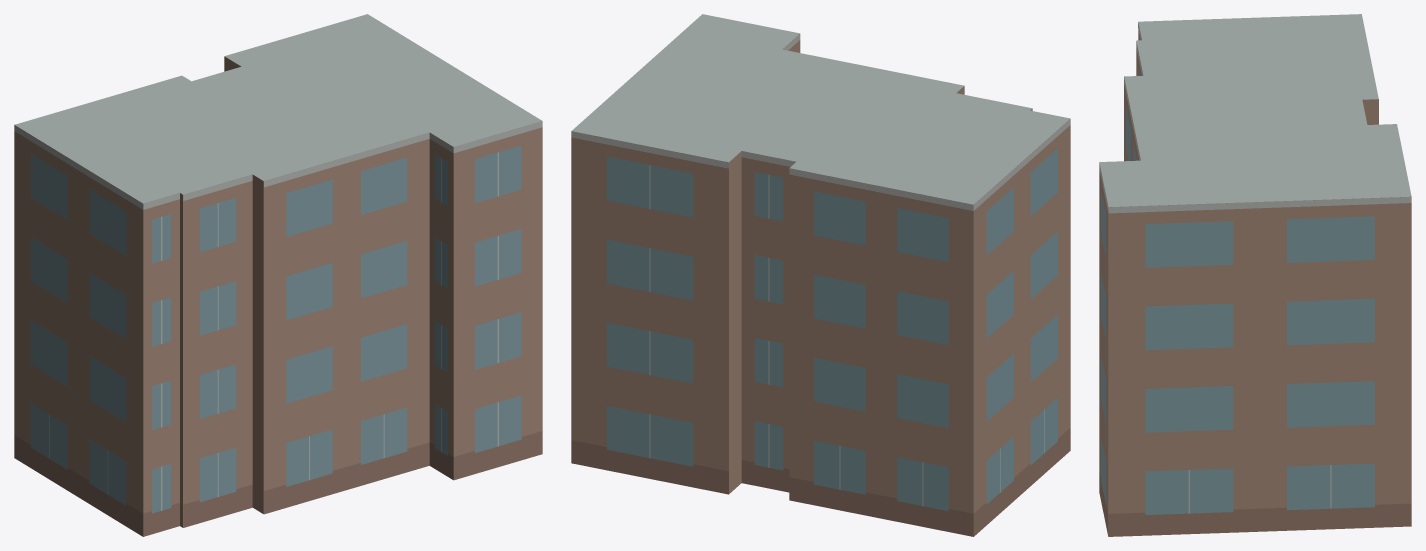
File: survey-upis-32622481.glb
3 renders of one model, left to right at view 1: azimuth 30°, elevation 25°; view 2: azimuth 150°, elevation 25°; view 3: azimuth 270°, elevation 25°, orthographic.
Parts seen in each view (by area): view 1: survey-upis-32622481.tmp; view 2: survey-upis-32622481.tmp; view 3: survey-upis-32622481.tmp.
Boxes of the visible parts, left/top/right/bottom form: survey-upis-32622481.tmp: left=14, top=14, right=542, bottom=536; survey-upis-32622481.tmp: left=571, top=14, right=1070, bottom=536; survey-upis-32622481.tmp: left=1099, top=14, right=1411, bottom=536.
Bounding box in the file's own units: 16.09 × 12.8 × 11.
